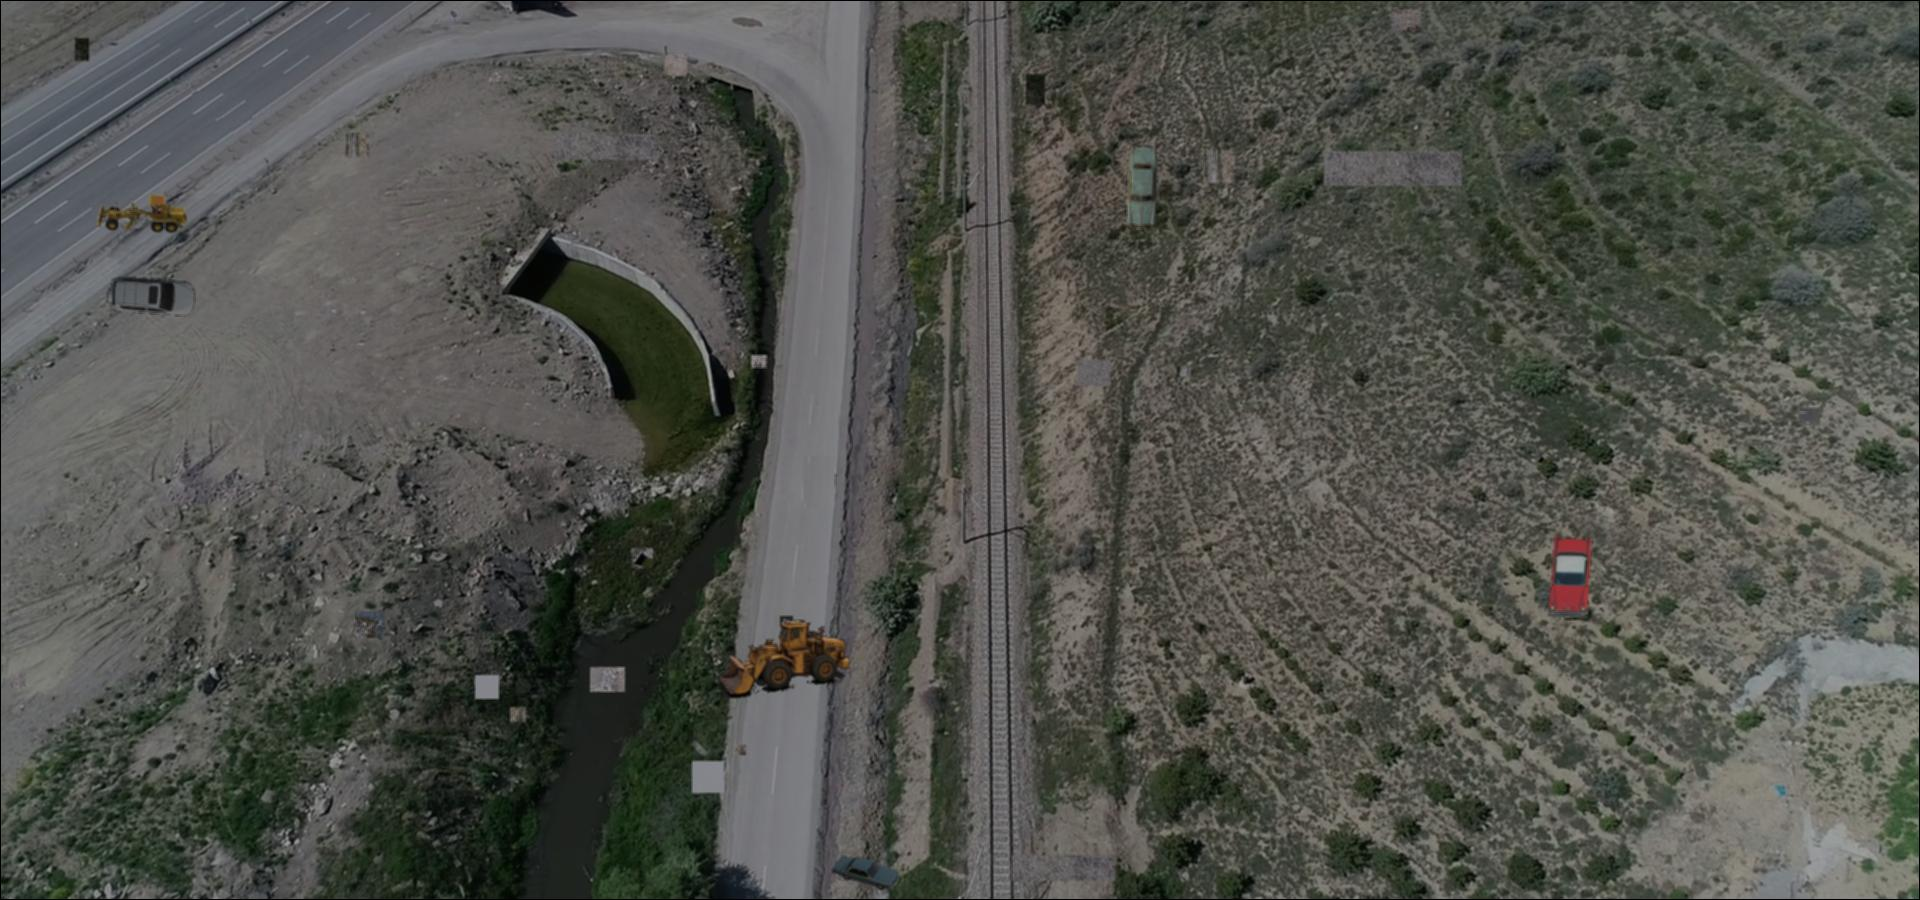arac: (713, 610, 855, 698), (97, 192, 189, 236), (107, 276, 197, 320), (1547, 533, 1591, 621), (1125, 143, 1158, 229), (830, 853, 901, 890)
